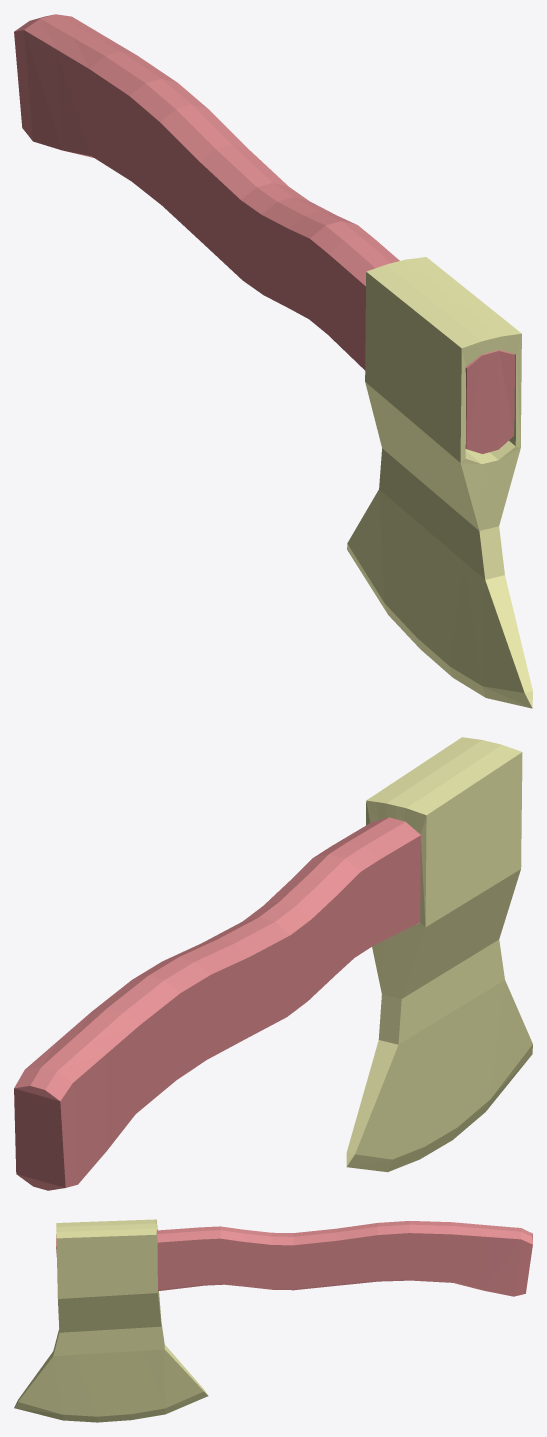
File: 63471_assembly.glb
3 views of the same model, one above another, from view 1: azimuth 30°, elevation 25°; view 2: azimuth 150°, elevation 25°; view 3: azimuth 270°, elevation 25° (orthographic). The views are drawn at different scales.
Parts seen in each view (by area): view 1: part_01, part_00; view 2: part_00, part_01; view 3: part_01, part_00.
Part boxes in pixels (left/top/right/bottom): part_01: left=347, top=257, right=532, bottom=708; part_00: left=14, top=14, right=514, bottom=453; part_00: left=14, top=817, right=420, bottom=1190; part_01: left=346, top=737, right=532, bottom=1172; part_01: left=14, top=1219, right=208, bottom=1422; part_00: left=56, top=1221, right=532, bottom=1296.
Size of the model in its own units: 0.0767 by 0.4614 by 1.09.
